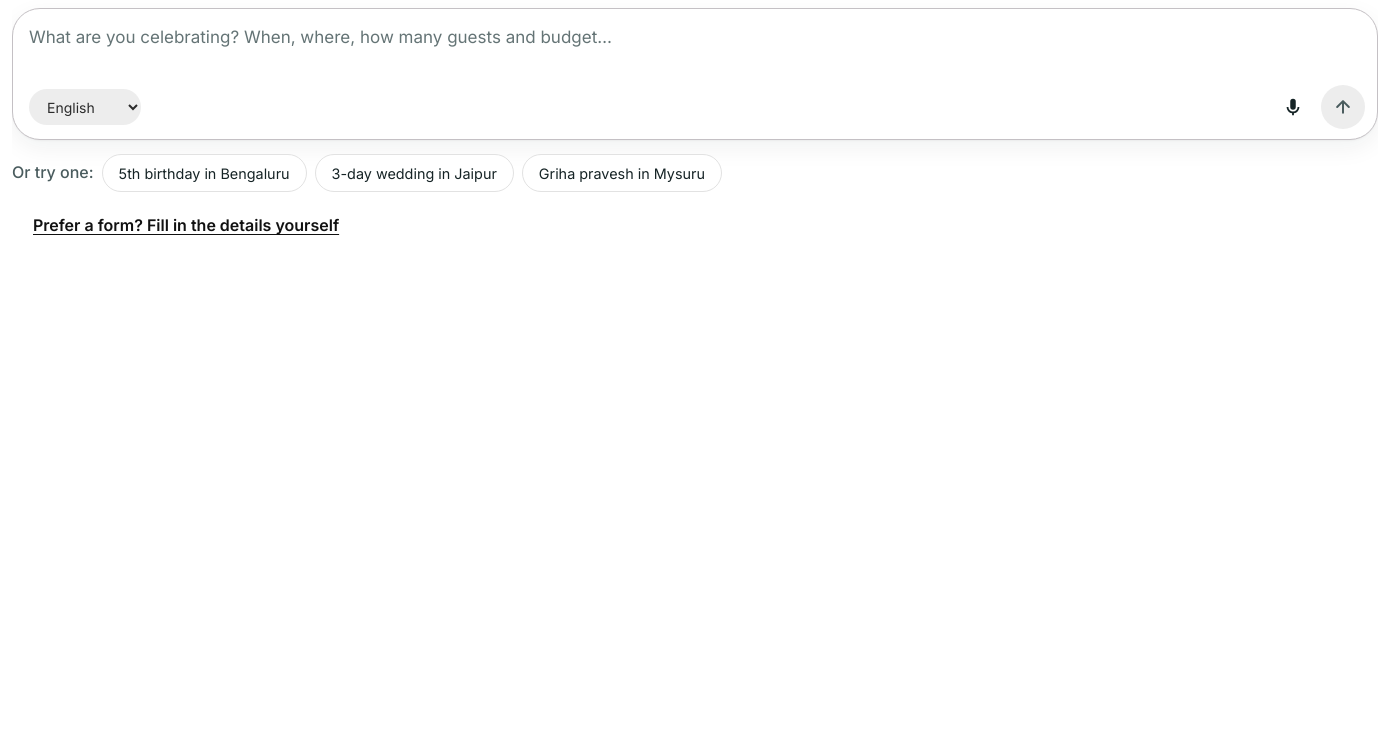
Test: Planner voice-first flow › fills the form from what Shubā understood and highlights missing details
Type "Housewarming in Mysuru for 60 people" into the text box named "Describe your event" at (697, 53), box top-left (29, 21), bottom-right (1365, 85)
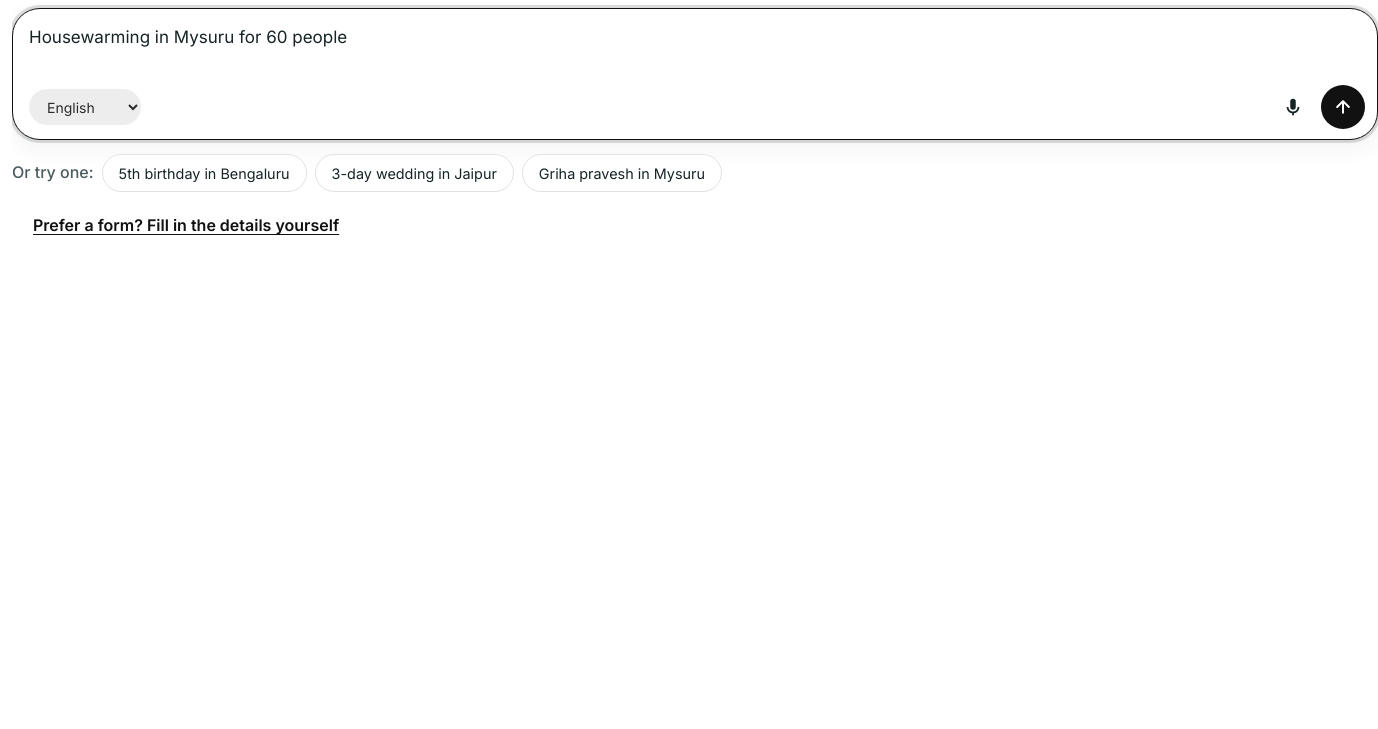
Click the button named "Continue" at (1343, 107), box top-left (1321, 85), bottom-right (1365, 129)
(page scrolled)
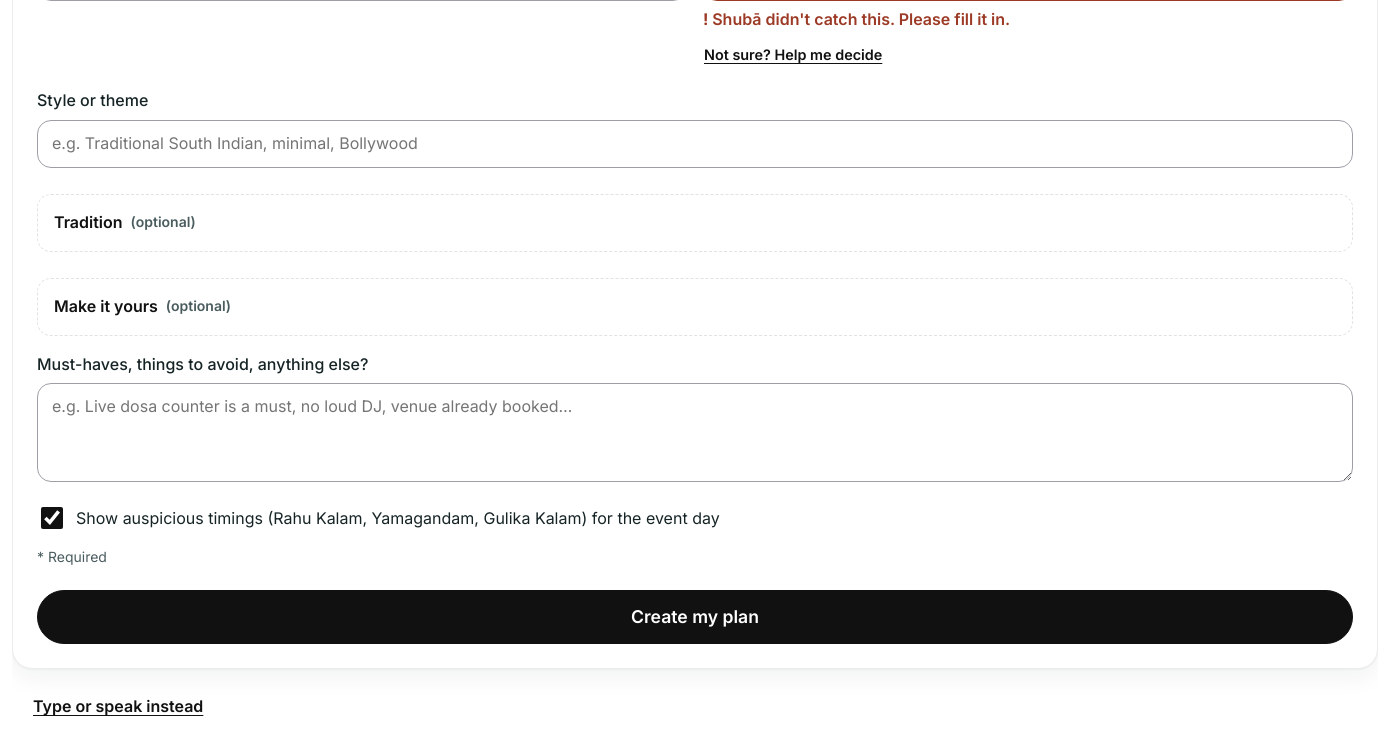
Result: the checkbox labelled "auspicious" is checked at top-left (41, 506), bottom-right (63, 528)
